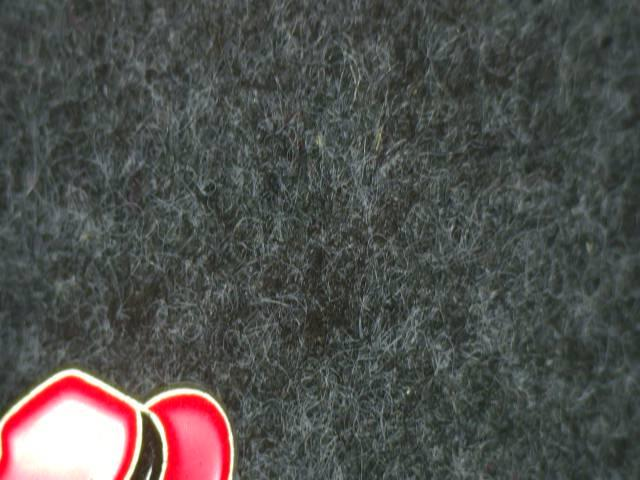Red-Hat: (0, 328, 258, 480)
